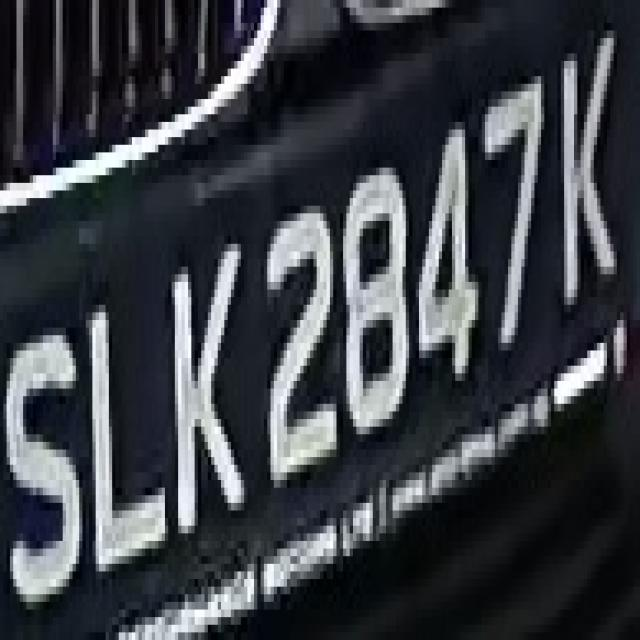2: (260, 190, 340, 503)
4: (406, 115, 485, 412)
7: (465, 84, 548, 381)
8: (330, 153, 419, 450)
K: (165, 214, 251, 534), (551, 23, 627, 320)
L: (79, 282, 175, 579)
S: (10, 297, 79, 625)
